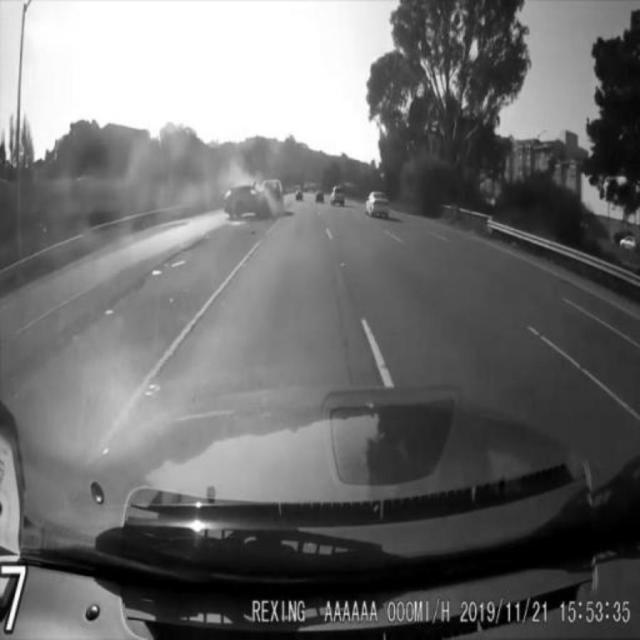accident: (220, 174, 288, 222)
vehicle: (362, 187, 394, 221), (327, 183, 351, 208)
